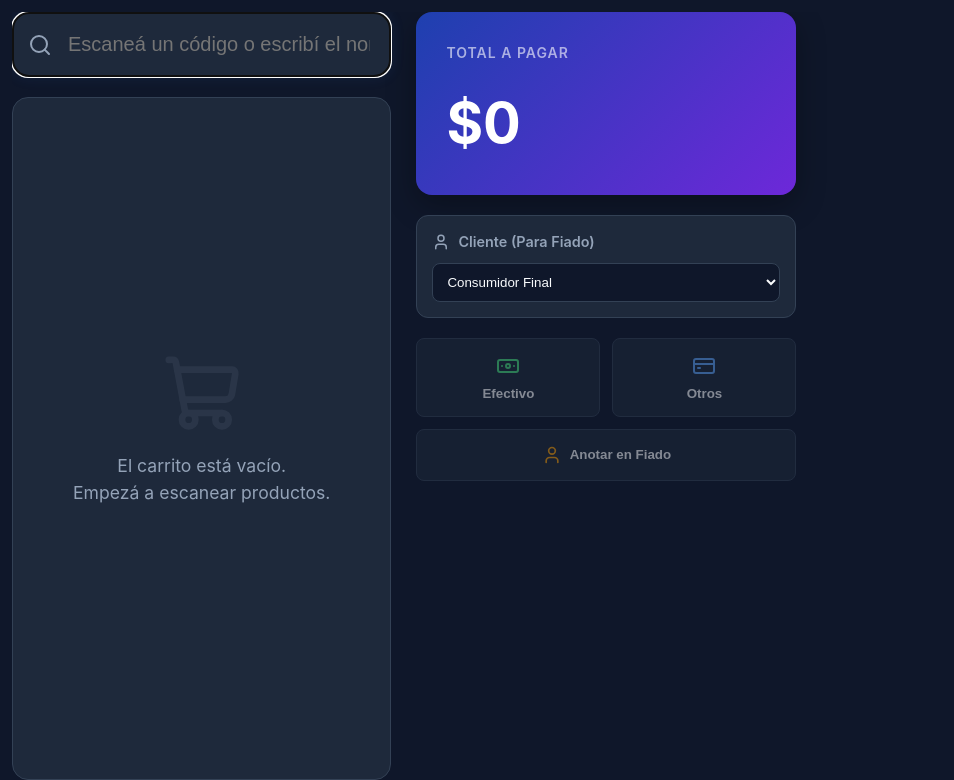
Test case: Ventas – cart operations › clicking + button increments quantity
Step 1. Type "7790001" into the field with placeholder "Escaneá un código o escribí el nombre... (Enter)" → (202, 44), box [12, 12, 391, 77]
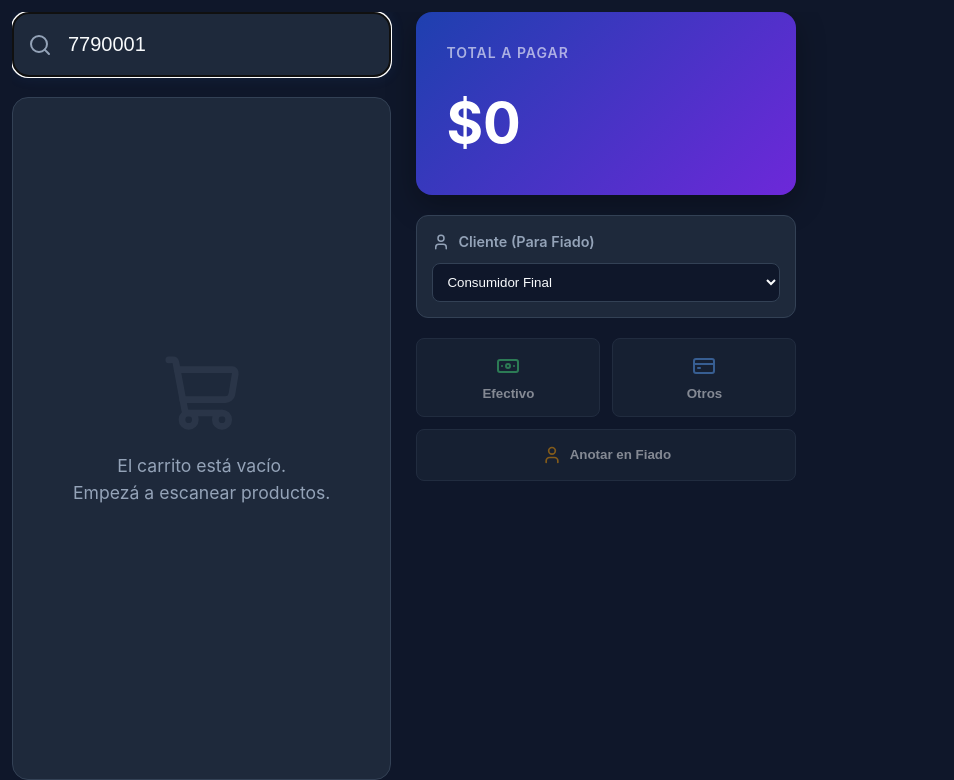
Step 2. Press Enter in the field with placeholder "Escaneá un código o escribí el nombre... (Enter)", box [12, 12, 391, 77]
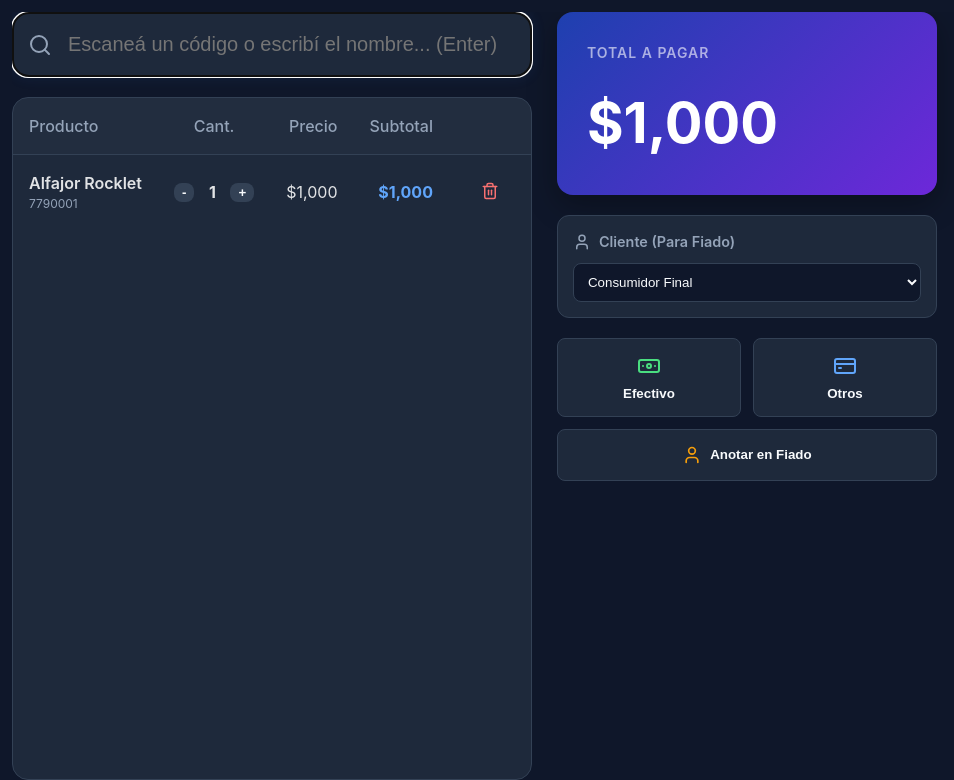
Result: the text "Alfajor Rocklet" is shown at [29, 171, 142, 195]
Step 3. Click the button "+" → (242, 192), box [230, 182, 254, 202]
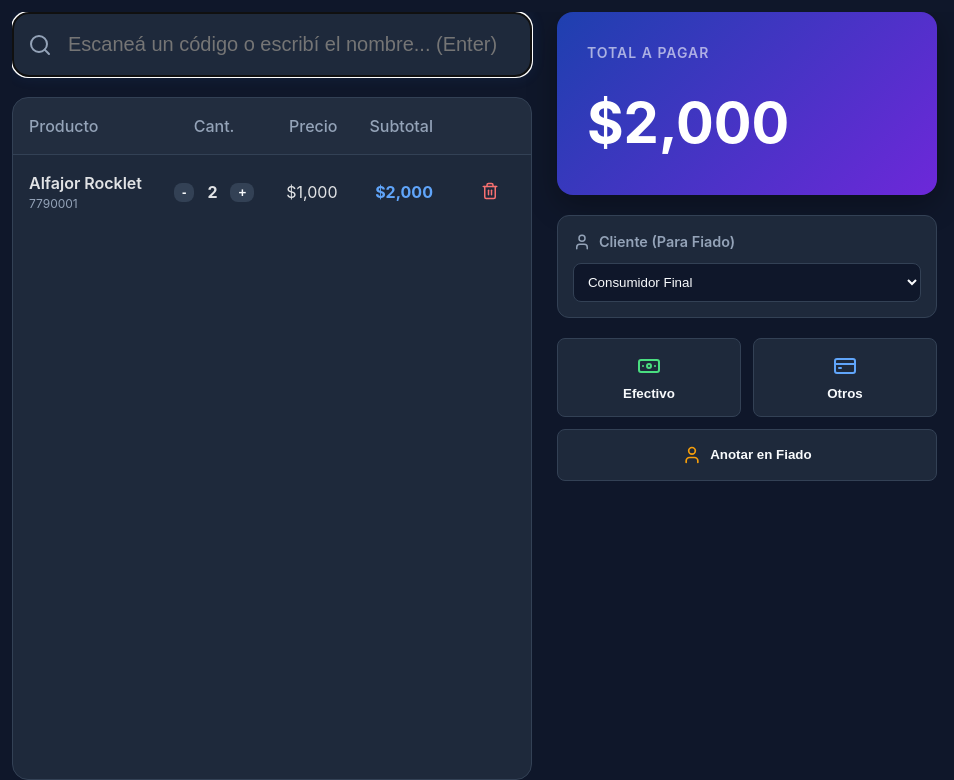
Result: the text "2" is shown at [207, 182, 218, 202]
